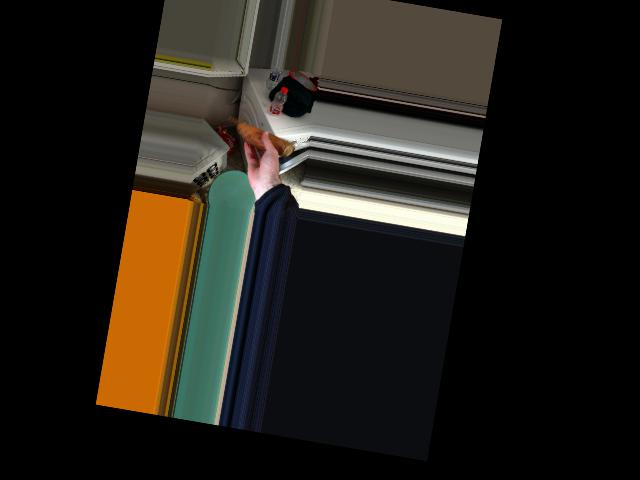sweet_potato: (225, 114, 294, 159)
